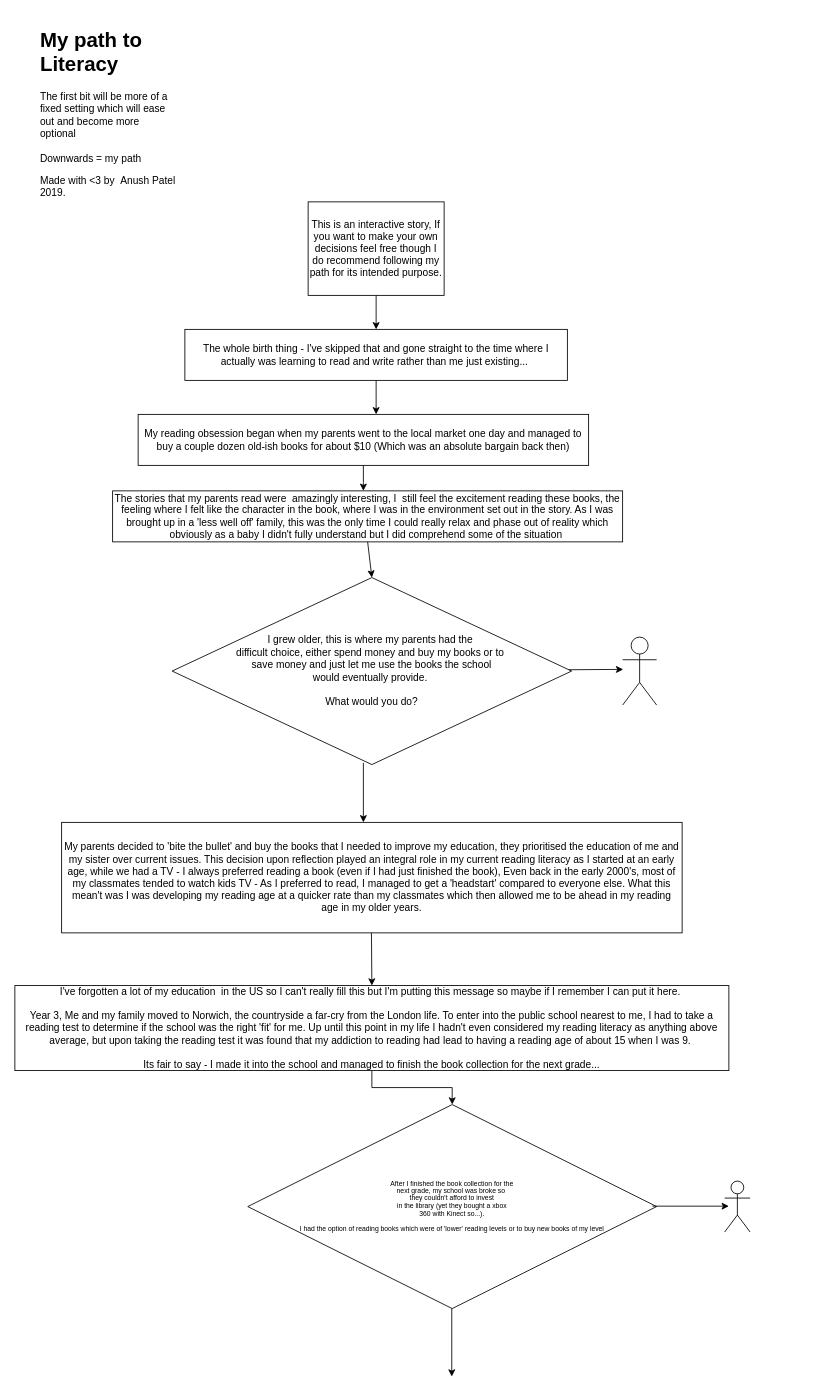
The diagram is 830 pixels wide and 1398 high, and some of its shapes have lost their labels. The shapes that lost their labels are listed below. From the top down, each one's box as (x1, y1, x2, y2) in pixels, then its label:
(622, 636, 657, 705): Hi I'm Jeff - This still hasn't been finalised.
(724, 1180, 750, 1232): Its Jeff again - This is coming soon
